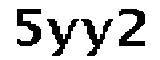2: (115, 5, 155, 50)
5: (13, 7, 44, 48)
y: (46, 14, 81, 60), (80, 14, 113, 60)
